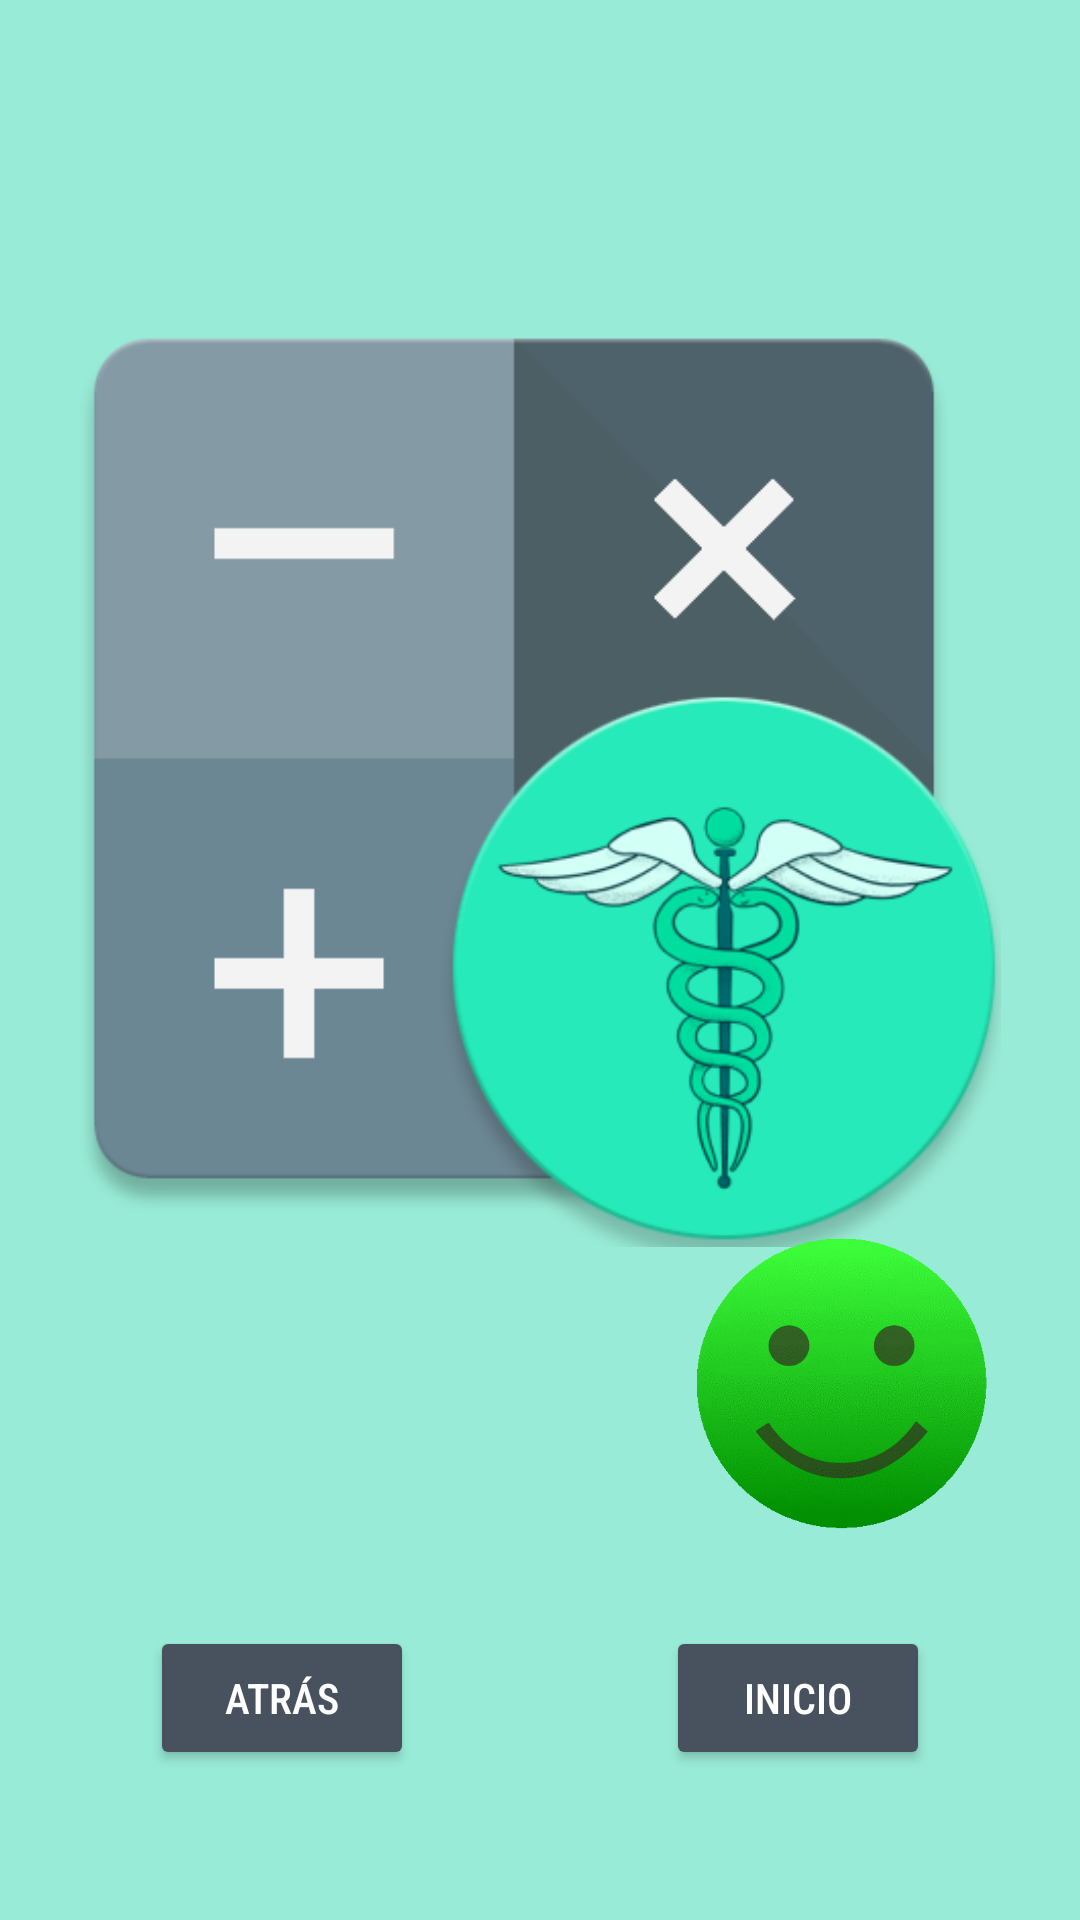

Locate icon controls on the screen. Image size 1080×1920, boxes as (x1, y1, x2, y2).
feliz: (690, 1236, 987, 1528)
